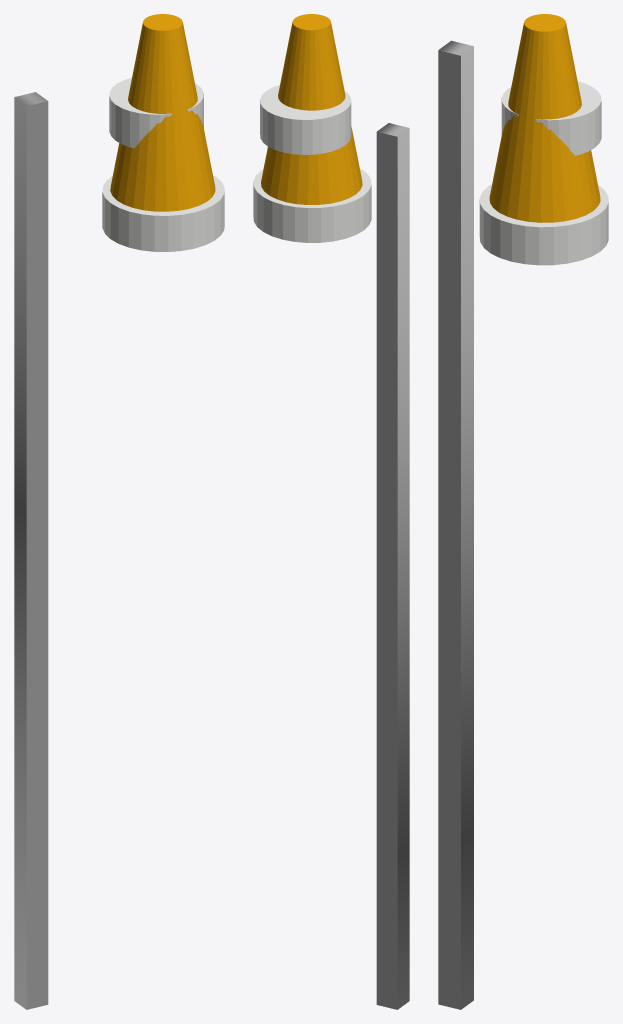
3 views of the same model, side by side, from view 1: azimuth 30°, elevation 25°; view 2: azimuth 150°, elevation 25°; view 3: azimuth 330°, elevation 25° (orthographic). The views are drawn at different scales.
Parts seen in each view (by area): view 1: J7_r00, J7_sol01, J7_sol02, J7_sol03; view 2: J7_r00, J7_sol01, J7_sol02, J7_sol03; view 3: J7_r00, J7_sol01, J7_sol02, J7_sol03.
Boxes of the visible parts, left/top/right/bottom form: J7_r00: left=14, top=92, right=48, bottom=1009; J7_sol01: left=110, top=14, right=215, bottom=211; J7_sol02: left=102, top=175, right=224, bottom=251; J7_sol03: left=109, top=77, right=203, bottom=148; J7_r00: left=376, top=123, right=409, bottom=1009; J7_sol01: left=261, top=14, right=362, bottom=204; J7_sol02: left=253, top=168, right=371, bottom=242; J7_sol03: left=260, top=85, right=351, bottom=154; J7_r00: left=438, top=40, right=473, bottom=1009; J7_sol01: left=489, top=14, right=600, bottom=222; J7_sol02: left=479, top=184, right=608, bottom=265; J7_sol03: left=501, top=81, right=601, bottom=155.
Size of the model in its own units: 0.398 by 2.15 by 0.2462.
